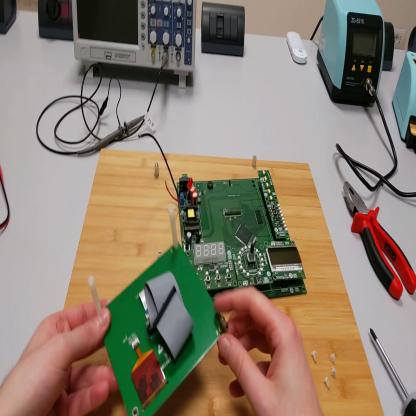hand: (2, 300, 121, 414), (215, 289, 321, 415)
low voltage board: (139, 135, 308, 297)
oscilloscope: (73, 2, 197, 90)
oscilloscope probe tip: (78, 116, 146, 157)
pliers: (343, 177, 415, 301)
screwdriver-: (370, 328, 416, 415)
socket: (39, 1, 74, 47), (382, 24, 396, 74), (2, 3, 18, 35), (409, 27, 416, 52)
welder base: (393, 52, 416, 162)
welder station: (319, 3, 387, 111)
working area: (64, 142, 385, 415)
